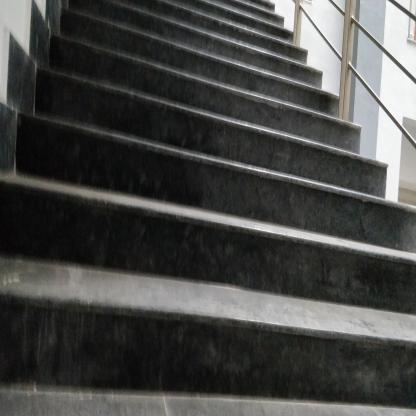stairs: (54, 34, 295, 416)
